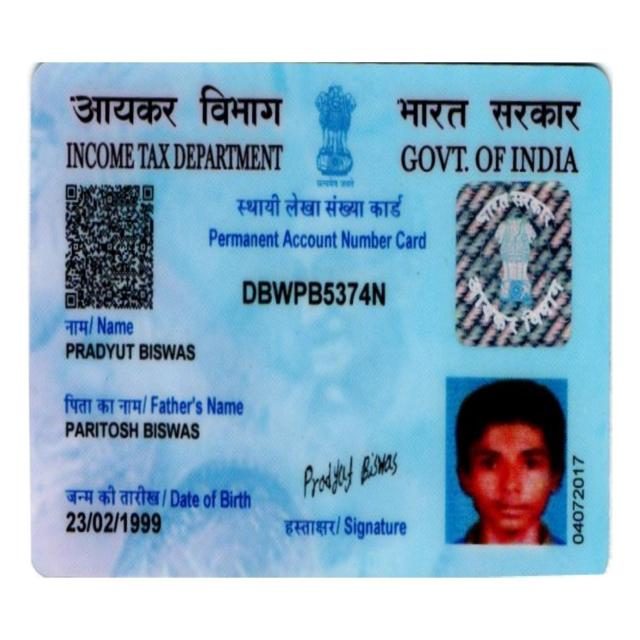pan_card: (28, 63, 612, 576)
